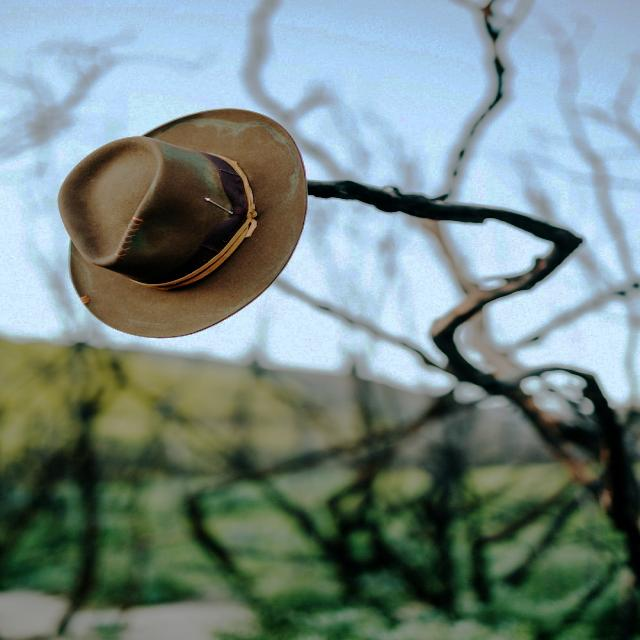TOPI: (43, 104, 331, 347)
